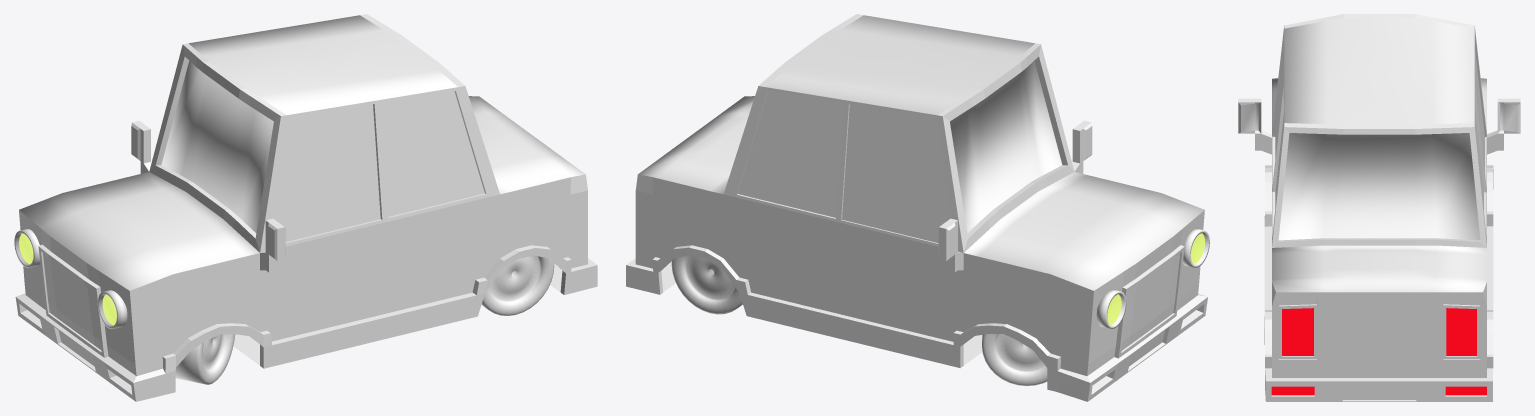
Rendered from car3.glb.
3 renders of one model, left to right at view 1: azimuth 30°, elevation 25°; view 2: azimuth 150°, elevation 25°; view 3: azimuth 270°, elevation 25°, orthographic. The views are drawn at different scales.
Visible parts, largest first — view 1: Cube, Cylinder.001, Cylinder; view 2: Cube, Cylinder.002, Cylinder.005; view 3: Cube.
Boxes of the visible parts, bbox=[...] form: Cube: bbox=[14, 14, 597, 401]; Cylinder.001: bbox=[481, 255, 554, 315]; Cylinder: bbox=[175, 334, 235, 384]; Cube: bbox=[626, 14, 1209, 401]; Cylinder.002: bbox=[671, 255, 742, 314]; Cylinder.005: bbox=[982, 334, 1047, 385]; Cube: bbox=[1238, 14, 1520, 401].
Bounding box in the file's own units: 5.97 × 3.14 × 3.18.
